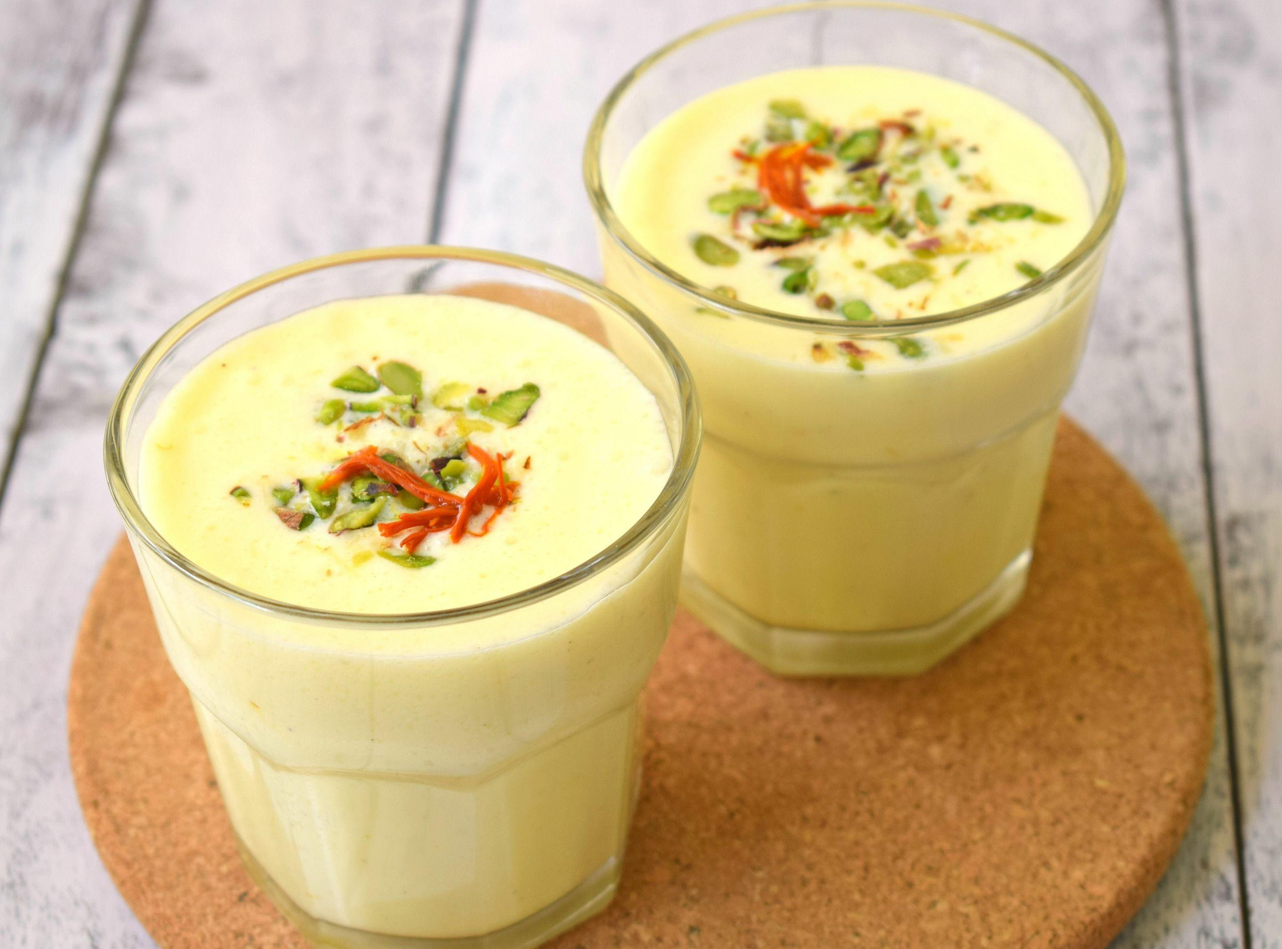Lassi: (145, 293, 674, 933), (615, 65, 1099, 629)
